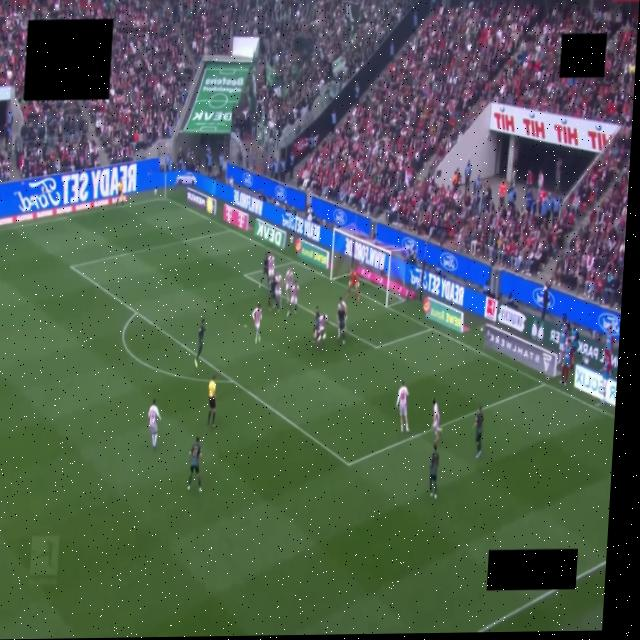ball: (322, 333, 325, 340)
player: (146, 399, 162, 450), (187, 437, 201, 492), (396, 381, 408, 432), (473, 407, 483, 458), (429, 444, 438, 499), (194, 319, 204, 367), (431, 398, 441, 444), (336, 298, 346, 344), (315, 314, 328, 347), (286, 282, 298, 315), (346, 269, 358, 301), (252, 304, 261, 344), (260, 252, 270, 286), (267, 276, 275, 310), (267, 253, 276, 282), (274, 275, 281, 311), (284, 267, 292, 298), (313, 307, 320, 342)
referee: (207, 375, 215, 427)
